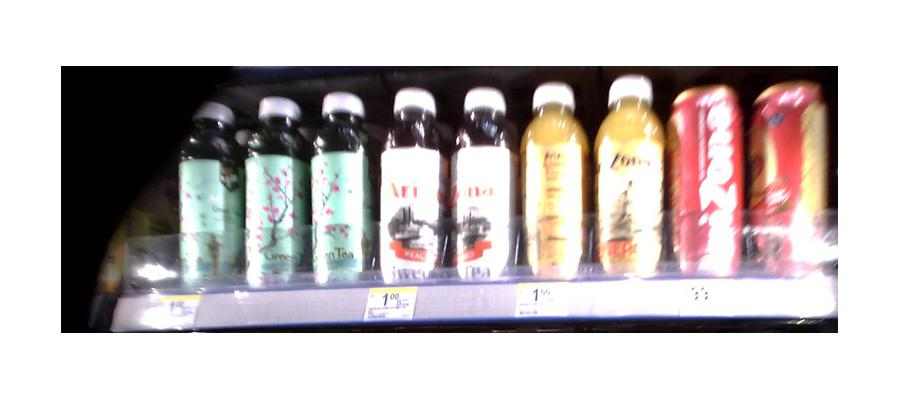bottle: (670, 87, 746, 276), (594, 76, 665, 278), (752, 82, 825, 278), (449, 90, 517, 284), (376, 92, 444, 282), (521, 85, 587, 279), (308, 93, 371, 285), (242, 95, 304, 289), (176, 103, 238, 292)
